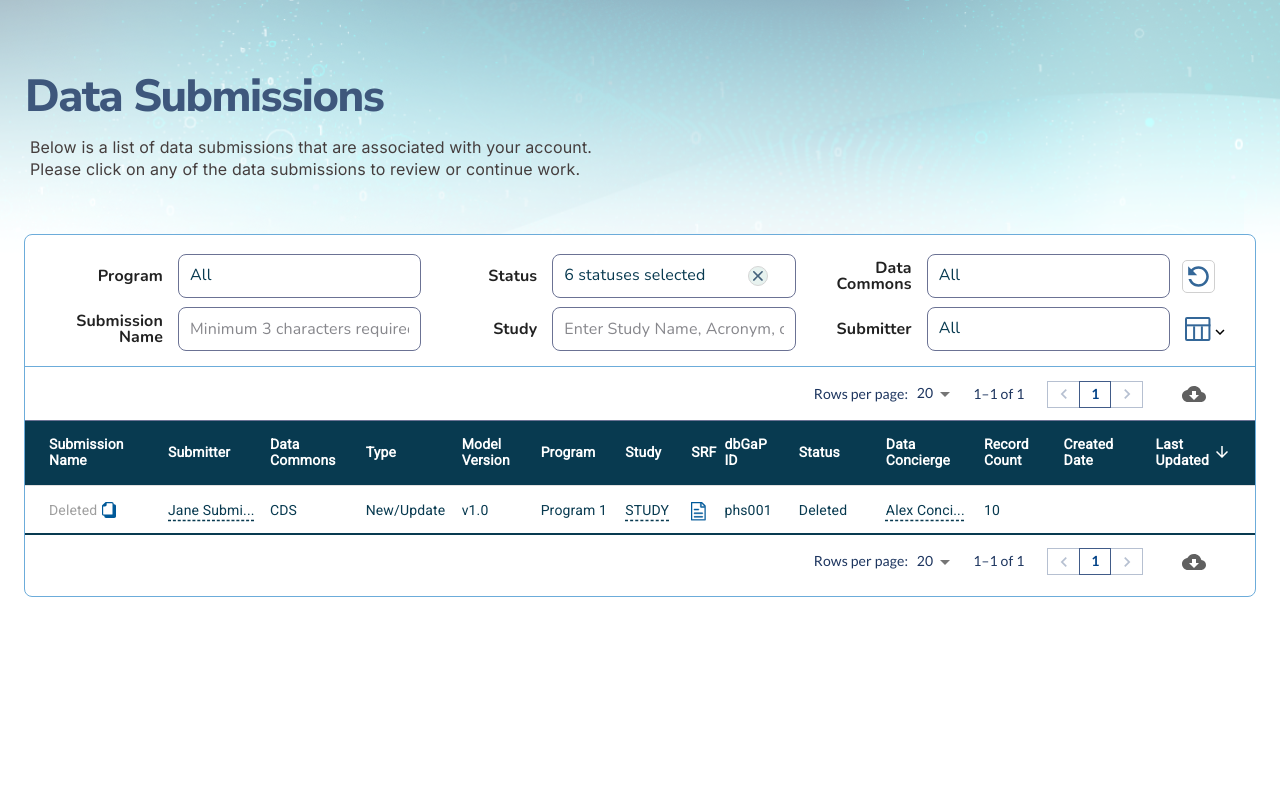
Test: Implementation Requirements › should show submission name tooltip content when hovering disabled submission name
This screenshot has width=1280, height=800.
Hover over the text "Deleted" at x=73, y=510, box left=49, top=502, right=97, bottom=518
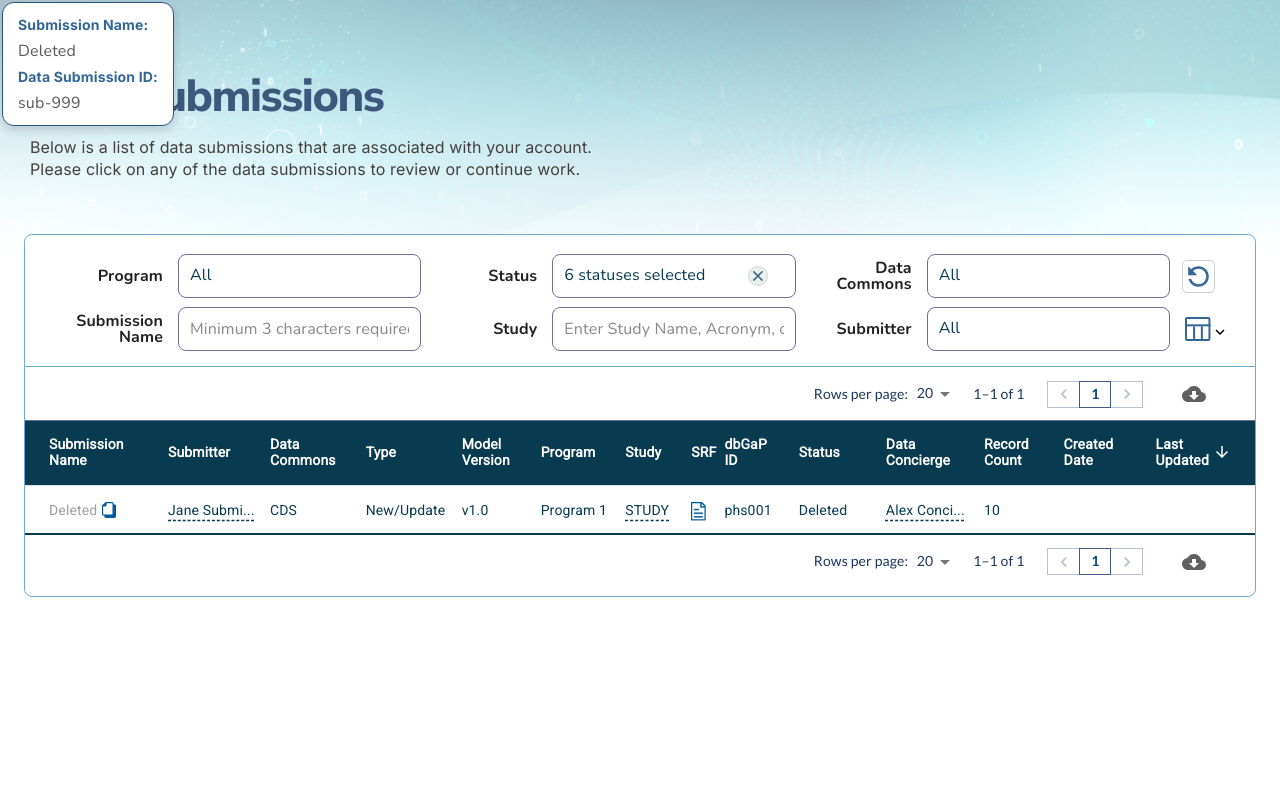
Result: the text "Submission Name:" is shown at left=18, top=15, right=158, bottom=35
Result: the text "Deleted" below "Submission Name:" is shown at left=18, top=40, right=76, bottom=62
Result: the text "Data Submission ID:" is shown at left=18, top=67, right=158, bottom=87
